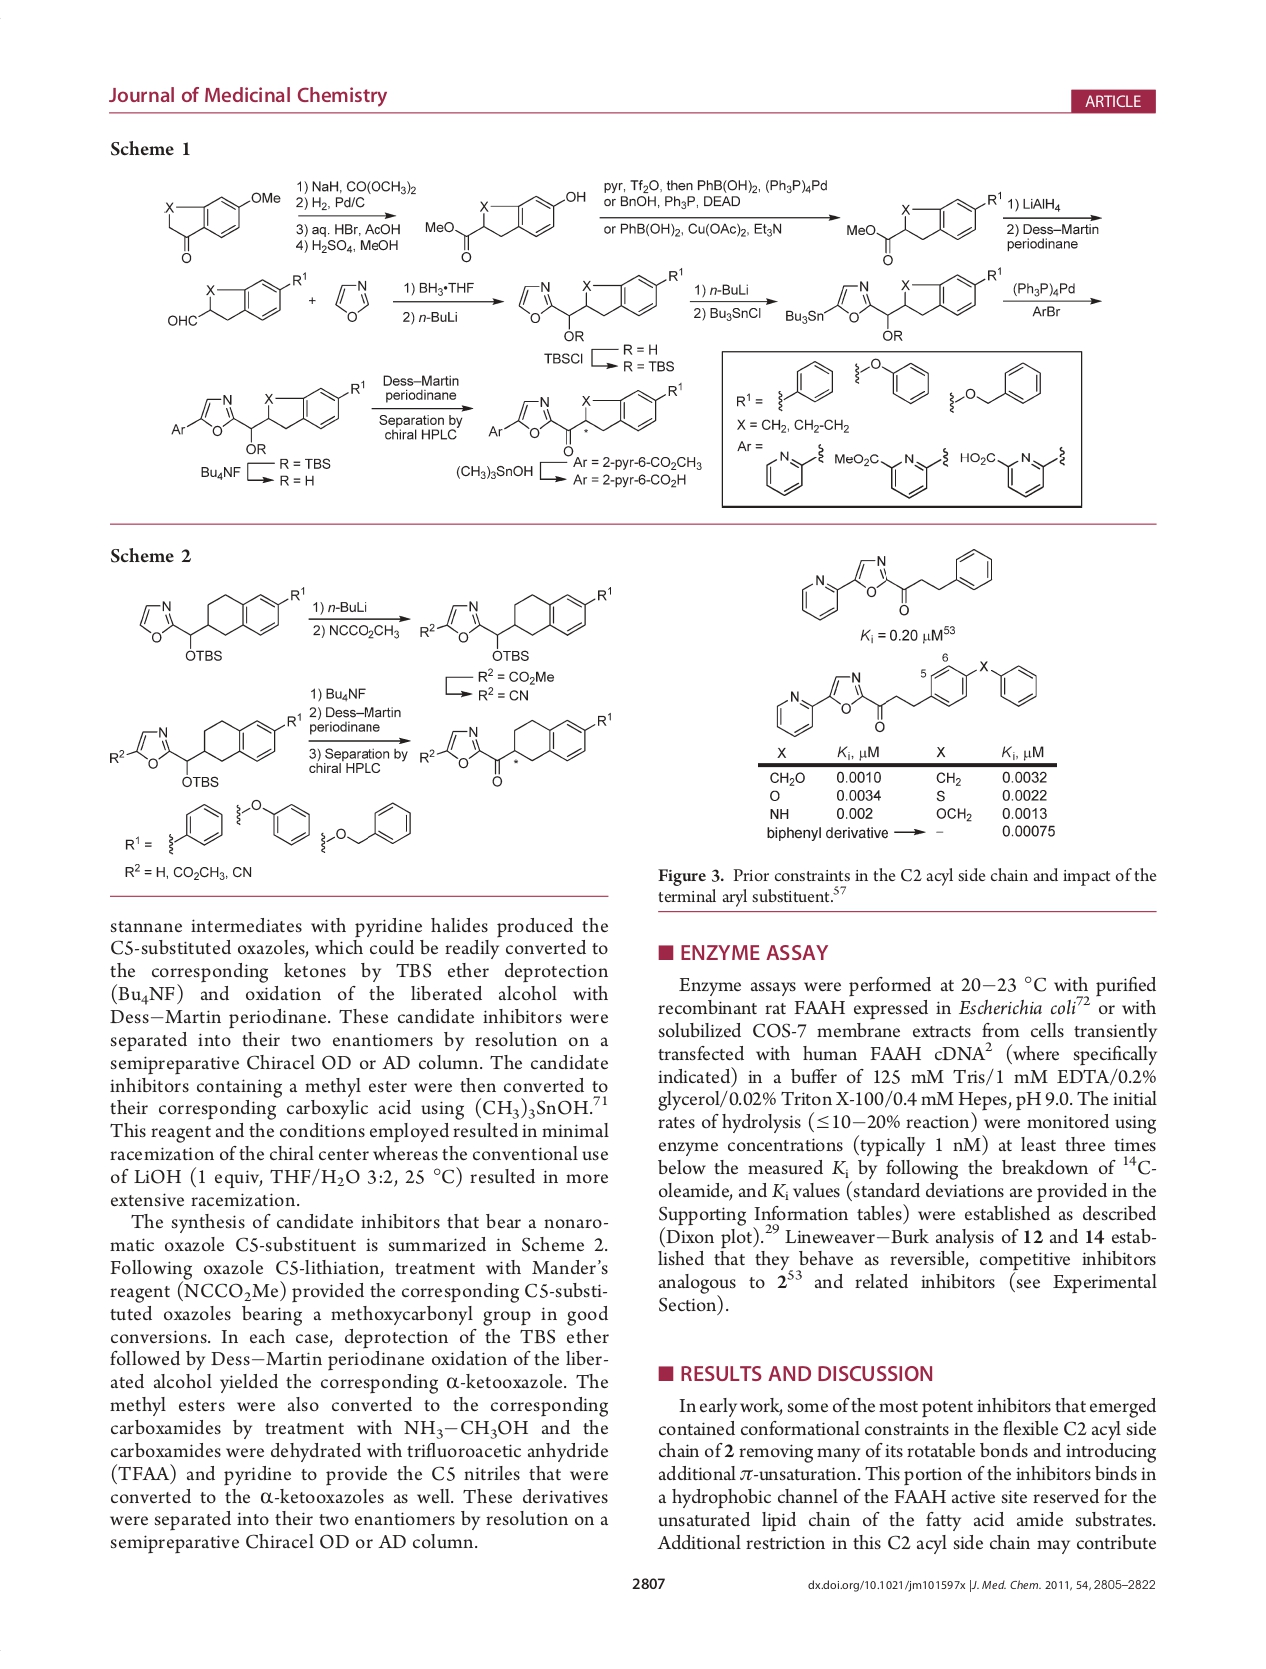exist_molecular: (771, 660, 1040, 741), (782, 266, 1004, 343), (416, 582, 614, 666), (106, 707, 306, 789), (487, 378, 685, 457), (797, 543, 995, 621), (418, 711, 617, 789), (170, 379, 366, 457), (136, 584, 305, 666), (513, 265, 684, 342), (423, 186, 589, 265), (844, 192, 1001, 266), (156, 186, 283, 265), (164, 269, 315, 331), (955, 440, 1068, 499), (831, 446, 949, 497), (943, 360, 1045, 419), (320, 801, 415, 856), (850, 352, 931, 408), (231, 797, 313, 846), (759, 440, 826, 500), (773, 356, 838, 415), (164, 801, 227, 859), (330, 279, 372, 324)
